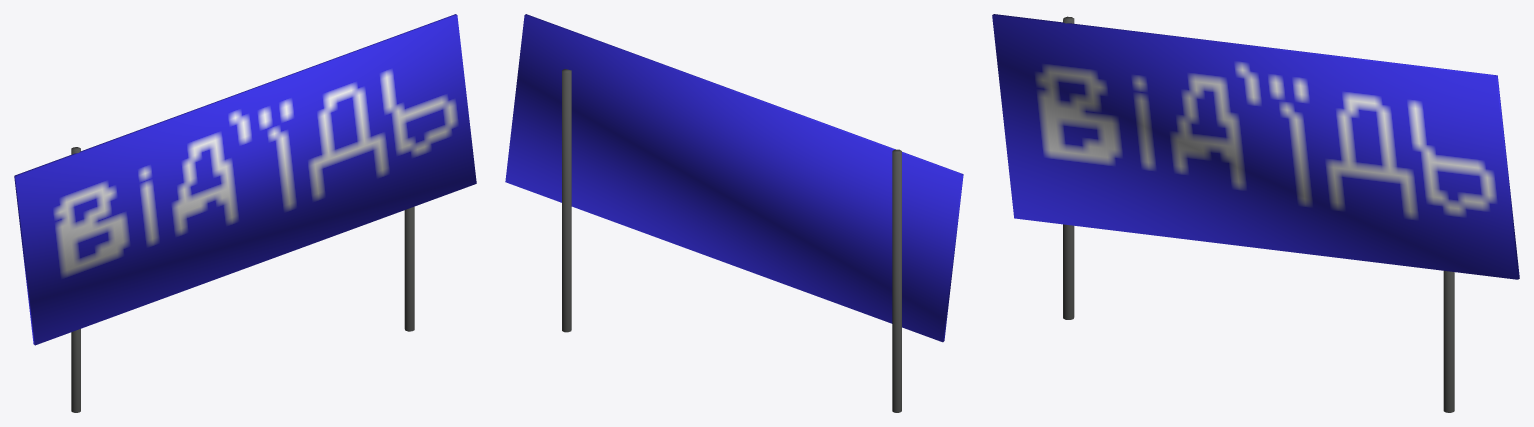
Rendered from broken_sign.fbx.
The picture shows the model from 3 angles, left to right: view 1: azimuth 30°, elevation 25°; view 2: azimuth 150°, elevation 25°; view 3: azimuth 330°, elevation 25°; orthographic projection. The views are drawn at different scales.
Visible parts, largest first — view 1: broken_sign; view 2: broken_sign; view 3: broken_sign.
Boxes of the visible parts, x1,y1,x2,y2 form: broken_sign: (14,14,476,412); broken_sign: (505,14,963,412); broken_sign: (992,14,1519,412).
Bounding box in the file's own units: 829 × 526 × 18.5.
